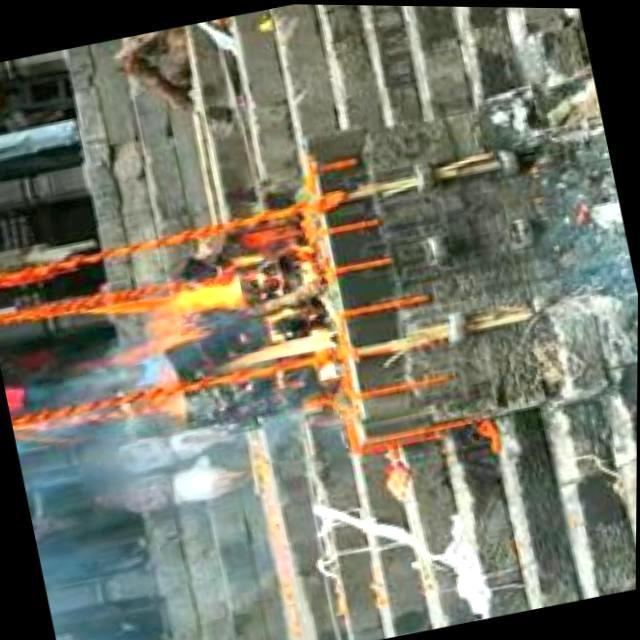fire: (110, 255, 342, 401)
